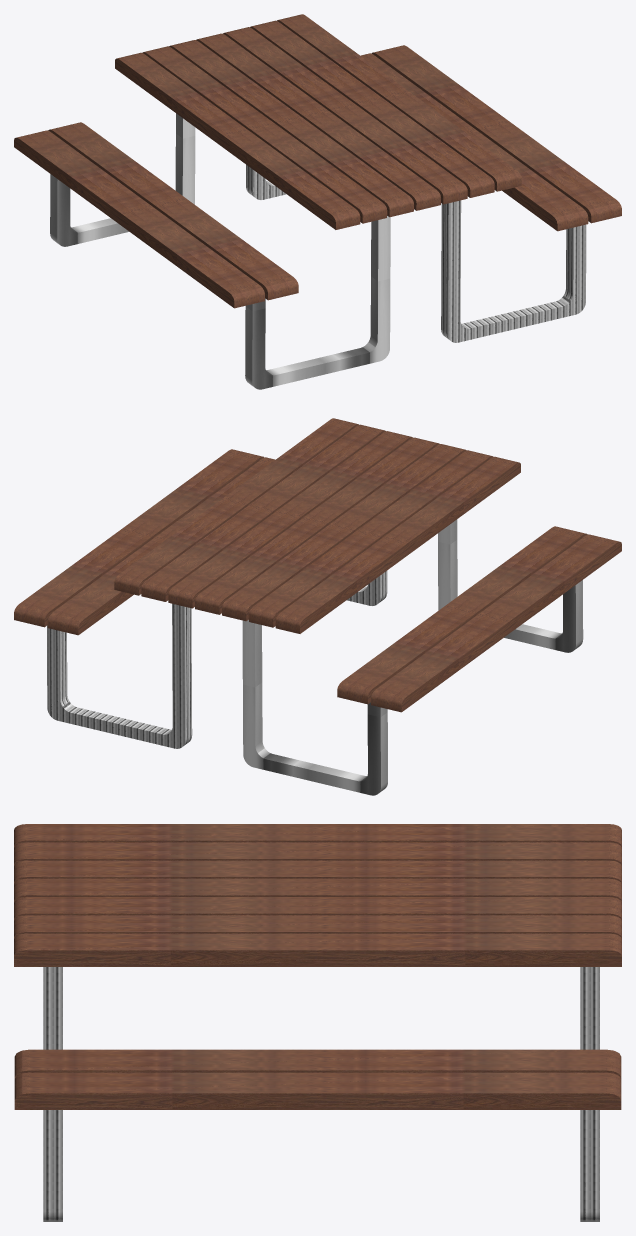
The model's file is PARKTABLE.obj.
The picture shows the model from 3 angles, top to bottom: view 1: azimuth 30°, elevation 25°; view 2: azimuth 150°, elevation 25°; view 3: azimuth 270°, elevation 25°; orthographic projection. The views are drawn at different scales.
Visible parts, largest first — view 1: wood_1, metal_stand, wood3, wood2; view 2: wood_1, metal_stand, wood3, wood2; view 3: wood_1, wood2, metal_stand.
Part boxes in pixels (bbox=[...]): wood_1: bbox=[115, 14, 521, 229]; metal_stand: bbox=[50, 113, 586, 389]; wood3: bbox=[14, 122, 298, 308]; wood2: bbox=[361, 45, 621, 231]; wood_1: bbox=[114, 418, 520, 633]; metal_stand: bbox=[47, 519, 583, 795]; wood3: bbox=[337, 526, 621, 712]; wood2: bbox=[14, 449, 274, 635]; wood_1: bbox=[14, 824, 621, 966]; wood2: bbox=[14, 1049, 621, 1109]; metal_stand: bbox=[43, 967, 599, 1221].
Size of the model in its own units: 4 by 1.63 by 3.94.
Materials: 2 (2 with a texture image).
